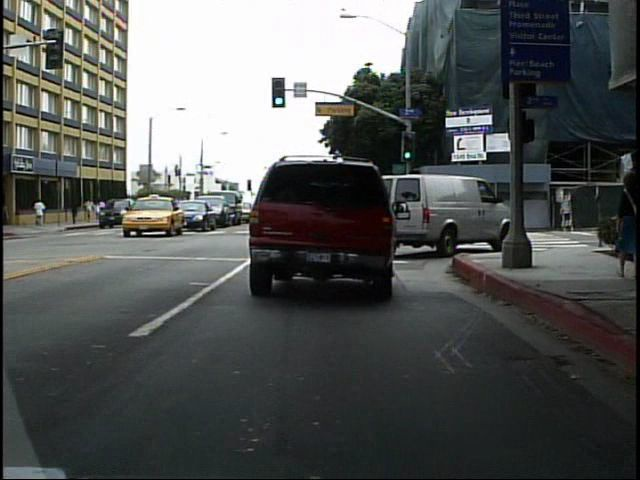person: (475, 175, 497, 235), (34, 196, 50, 229)
